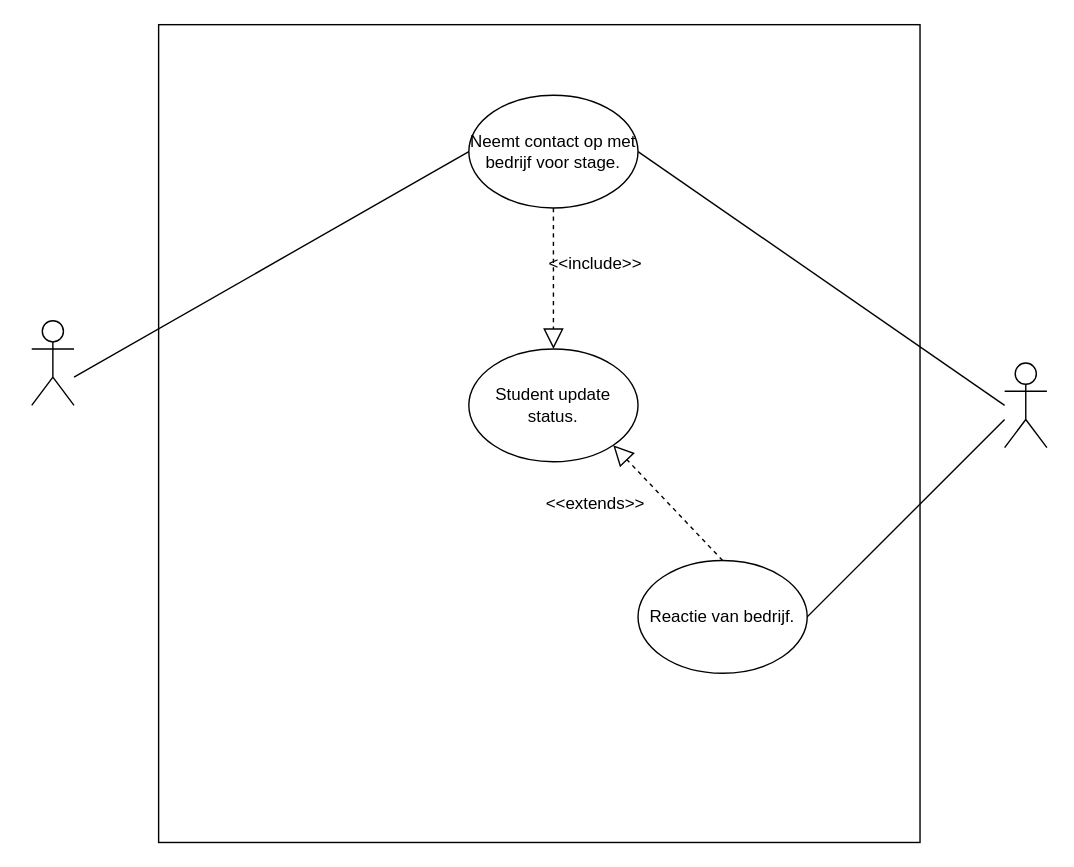
Image size: 1074x867. Some labels were removed from this diagram. The centre of each missing label's shape, as x and y in pixels:
Bedrijf: (1025,405)
Student: (52,362)
